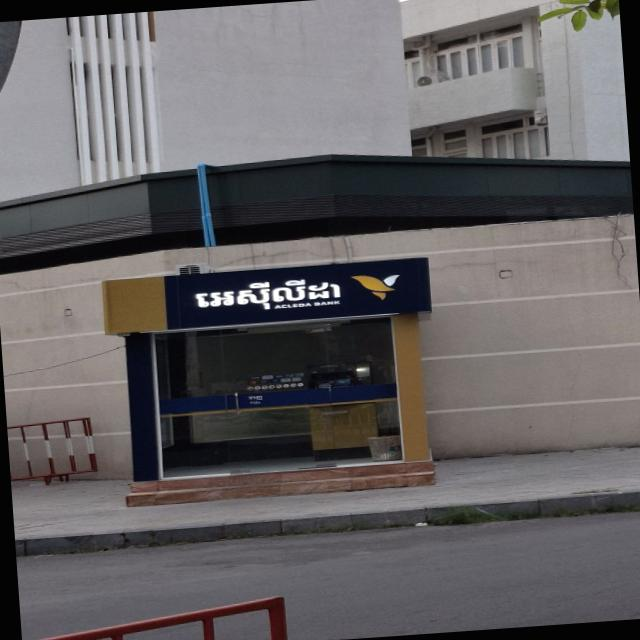Yolov11kh: (144, 263, 361, 324)
